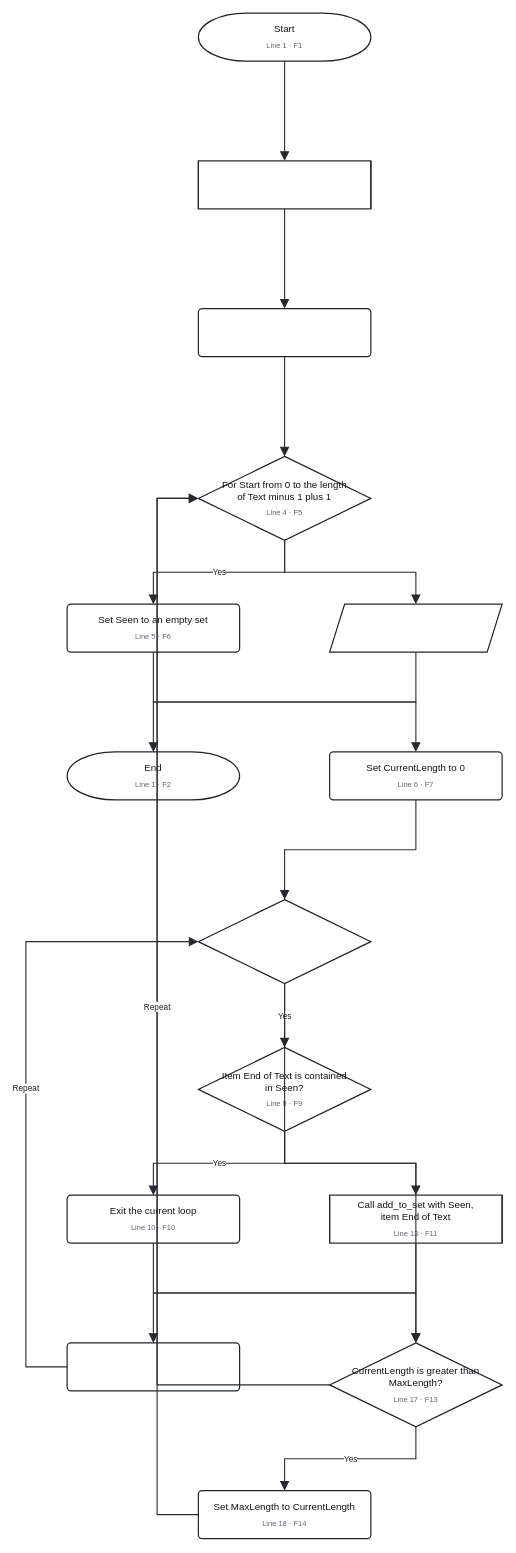
The diagram is 516 pixels wide and 1553 high, and some of its shapes have lost their labels. Each missing label, with the box of its shape:
Display MaxLength Line 22 · F15: (329, 603, 502, 652)
For End from Start to the length of Text minus 1 plus 1 Line 8 · F8: (197, 899, 371, 984)
Run function unnamed_function with Text Line 1 · F3: (197, 160, 371, 209)
Set CurrentLength to CurrentLength plus 1 Line 14 · F12: (66, 1342, 240, 1391)
Set MaxLength to 0 Line 2 · F4: (197, 308, 371, 357)
